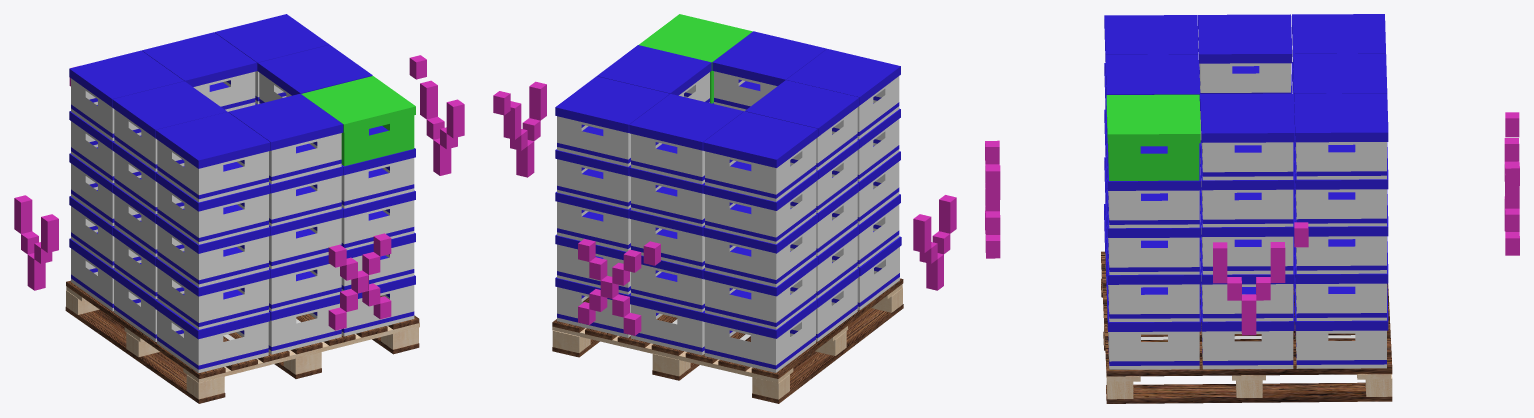
File: caja315.gltf
The picture shows the model from 3 angles, left to right: view 1: azimuth 30°, elevation 25°; view 2: azimuth 150°, elevation 25°; view 3: azimuth 270°, elevation 25°; orthographic projection. The views are drawn at different scales.
Parts seen in each view (by area): view 1: CajaVerde, Cube.031_1, Cube.033_1, Cube.032_1, Cube.030_1, Cube.029_1, Cube.027_1, Cube.005_0, Cube.020_0, Cube.031_0, Cube.012_0, Cube.039_0 (+53 smaller); view 2: Cube.029_1, Cube.032_1, Cube.028_1, Cube.033_1, Cube.030_1, Cube.031_1, Cube.027_1, Cube.007_0, Cube.029_0, Cube.022_0, Cube.014_0, Cube.037_0 (+53 smaller); view 3: CajaVerde, Cube.028_1, Cube.027_1, Cube.030_1, Cube055, Cube.033_1, Cube.032_1, Cube.031_1, Cube.029_1, Cube.003_0, Cube.017_0, Cube.027_0 (+32 smaller).
Part boxes in pixels (box(x1,y1,x2,y2)): CajaVerde: box(301, 76, 415, 166); Cube.031_1: box(155, 112, 270, 199); Cube.033_1: box(228, 93, 343, 180); Cube.032_1: box(142, 32, 256, 109); Cube.030_1: box(112, 81, 227, 168); Cube.029_1: box(69, 50, 183, 137); Cube.027_1: box(257, 45, 372, 103); Cube.005_0: box(157, 310, 268, 372); Cube.020_0: box(157, 225, 268, 287); Cube.031_0: box(157, 140, 268, 202); Cube.012_0: box(157, 267, 268, 329); Cube.039_0: box(157, 182, 268, 244); Cube.029_1: box(703, 111, 817, 198); Cube.032_1: box(629, 94, 743, 180); Cube.028_1: box(555, 76, 669, 163); Cube.033_1: box(712, 31, 826, 109); Cube.030_1: box(745, 80, 859, 167); Cube.031_1: box(786, 49, 900, 135); Cube.027_1: box(597, 45, 711, 102); Cube.007_0: box(704, 309, 815, 372); Cube.029_0: box(705, 139, 816, 201); Cube.022_0: box(705, 224, 816, 287); Cube.014_0: box(705, 267, 816, 329); Cube.037_0: box(705, 181, 816, 244); CajaVerde: box(1106, 94, 1200, 180); Cube.028_1: box(1294, 93, 1388, 176); Cube.027_1: box(1200, 93, 1294, 176); Cube.030_1: box(1198, 14, 1292, 93); Cube055: box(1106, 382, 1392, 403); Cube.033_1: box(1105, 54, 1199, 100); Cube.032_1: box(1293, 53, 1387, 101); Cube.031_1: box(1104, 15, 1198, 61); Cube.029_1: box(1292, 14, 1385, 56); Cube.003_0: box(1295, 330, 1386, 368); Cube.017_0: box(1108, 331, 1199, 369); Cube.027_0: box(1201, 142, 1293, 180).
Size of the model in its own units: 4.23 by 2.33 by 4.22.
82 materials, 2 textured.
